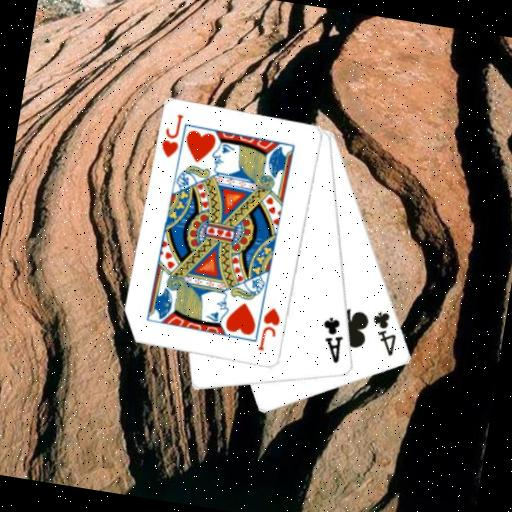4C: (364, 306, 402, 359)
AC: (314, 312, 348, 365)
JH: (255, 303, 284, 354), (157, 109, 186, 160)
